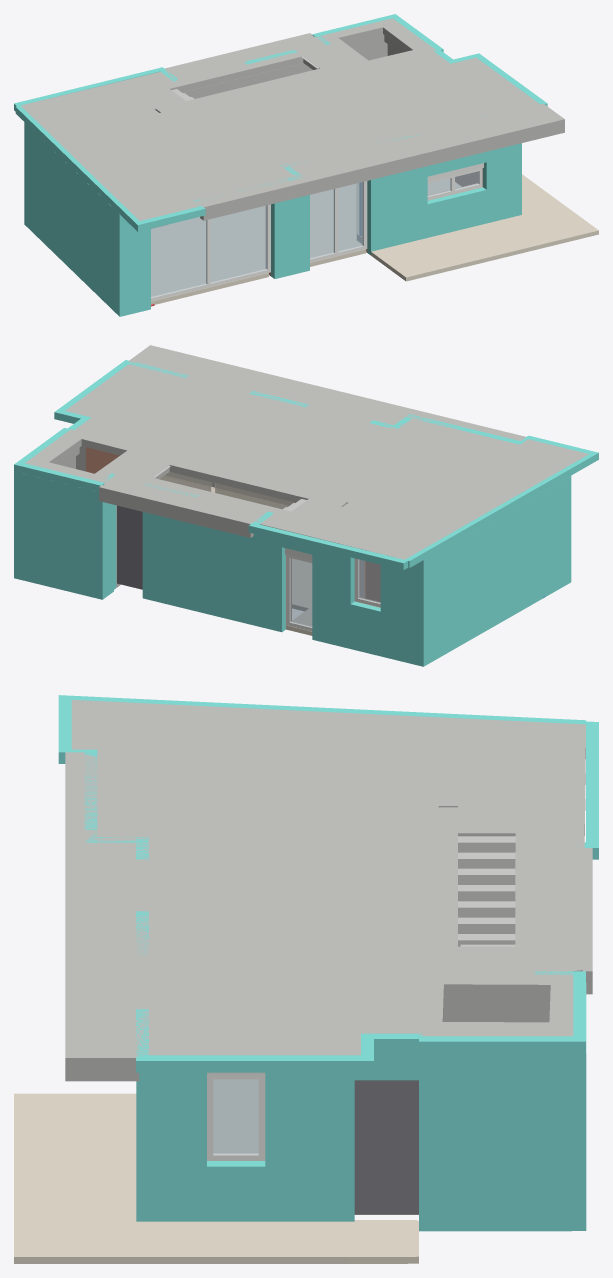
Rendered from HouseEM_AR_GF.glb.
3 renders of one model, top to bottom at view 1: azimuth 30°, elevation 25°; view 2: azimuth 150°, elevation 25°; view 3: azimuth 270°, elevation 25°, orthographic. The views are drawn at different scales.
Parts seen in each view (by area): view 1: F1-SB01, GF-FF01, GF-ET12, GF-EO06, F1-PP01, GF-ET07, GF-EO05, GF-ET13, GF-ET09, GF-EO04-SILL-ET, GF-ET05, F1-ET06 (+11 smaller); view 2: F1-SB01, GF-ET12, GF-ET08, GF-ET02, GF-ET11, GF-ET10, F1-PP02, F1-ET06, GF-AD01, GF-ET03, F1-PP01, GF-EO01-SILL-ET (+15 smaller); view 3: F1-SB01, GF-FF01, GF-ET01, GF-ET04, GF-ET06, GF-AD02, GF-ST01, F1-PP01, GF-EO03-SILL-ET, GF-EO03, F1-ET13, F1-ET06 (+11 smaller).
Boxes of the visible parts, x1=… form: F1-SB01: x1=20, y1=18, x2=559, y2=220; GF-FF01: x1=151, y1=174, x2=598, y2=304; GF-ET12: x1=27, y1=125, x2=116, y2=313; GF-EO06: x1=151, y1=205, x2=266, y2=297; F1-PP01: x1=200, y1=103, x2=564, y2=220; GF-ET07: x1=367, y1=166, x2=427, y2=255; GF-EO05: x1=310, y1=182, x2=363, y2=258; GF-ET13: x1=116, y1=212, x2=150, y2=316; GF-ET09: x1=271, y1=195, x2=309, y2=278; GF-EO04-SILL-ET: x1=427, y1=187, x2=486, y2=237; GF-ET05: x1=483, y1=144, x2=515, y2=223; F1-ET06: x1=15, y1=105, x2=142, y2=231; F1-SB01: x1=25, y1=348, x2=588, y2=559; GF-ET12: x1=428, y1=478, x2=566, y2=663; GF-ET08: x1=142, y1=512, x2=285, y2=632; GF-ET02: x1=20, y1=473, x2=97, y2=598; GF-ET11: x1=380, y1=558, x2=427, y2=666; GF-ET10: x1=312, y1=548, x2=354, y2=648; F1-PP02: x1=99, y1=485, x2=253, y2=537; F1-ET06: x1=405, y1=451, x2=598, y2=567; GF-AD01: x1=117, y1=505, x2=142, y2=589; GF-ET03: x1=97, y1=492, x2=116, y2=599; F1-PP01: x1=128, y1=345, x2=525, y2=439; GF-EO01-SILL-ET: x1=350, y1=601, x2=380, y2=656; F1-SB01: x1=71, y1=700, x2=585, y2=1055; GF-FF01: x1=14, y1=1079, x2=418, y2=1263; GF-ET01: x1=419, y1=1048, x2=586, y2=1231; GF-ET04: x1=265, y1=1072, x2=354, y2=1221; GF-ET06: x1=136, y1=1072, x2=206, y2=1221; GF-AD02: x1=354, y1=1080, x2=418, y2=1214; GF-ST01: x1=458, y1=836, x2=515, y2=946; F1-PP01: x1=65, y1=752, x2=139, y2=1081; GF-EO03-SILL-ET: x1=207, y1=1161, x2=265, y2=1221; GF-EO03: x1=213, y1=1079, x2=258, y2=1154; F1-ET13: x1=422, y1=1036, x2=573, y2=1053; F1-ET06: x1=58, y1=695, x2=585, y2=724.
Bounding box in the file's own units: 13.96 × 3.25 × 9.1.
